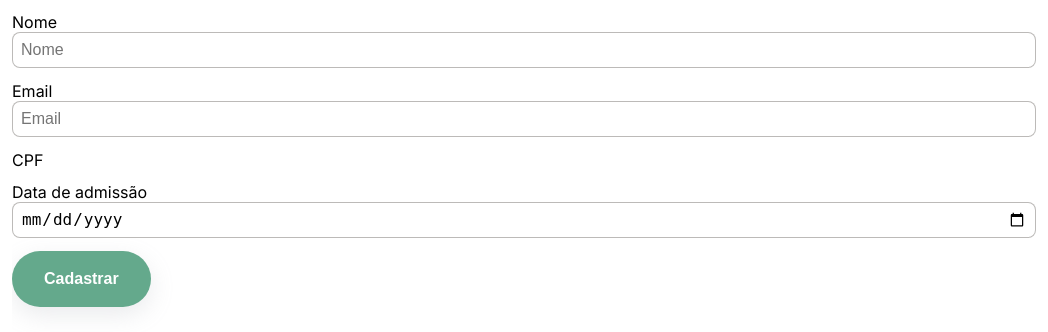
Test case: <RegisterForm /> › should be able to validate the empty fields on form
Step 1. Click the button "Cadastrar" → (81, 279), box [12,251,151,307]
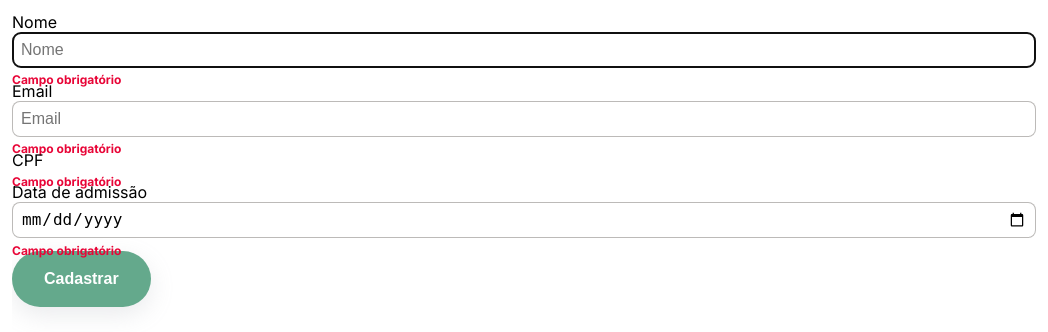
Expected: the text "Campo obrigatório" is shown 4 times, [12,72,121,87]; [12,141,121,156]; [12,174,121,189]; [12,243,121,258]
